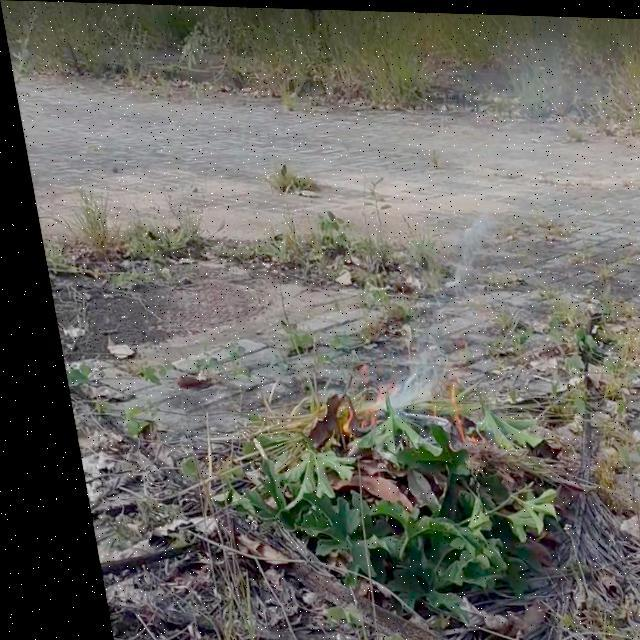Fire: (427, 386, 452, 432), (323, 402, 363, 428)
